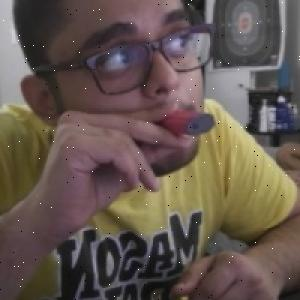Blume-E-Ciggirate: (159, 108, 221, 140)
